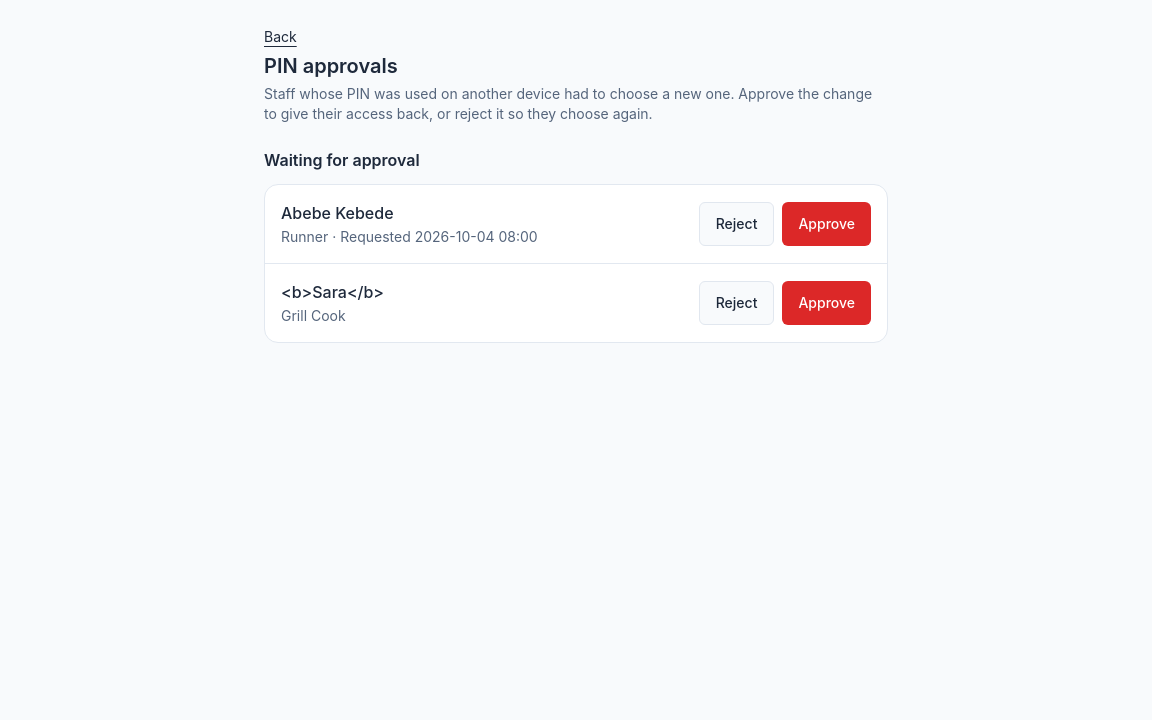
Test: PinApprovalsPage › approves only after confirmation, toasts and refreshes the list
Click the button with aria-label "Approve Abebe Kebede" at (827, 224), box [782, 202, 871, 246]
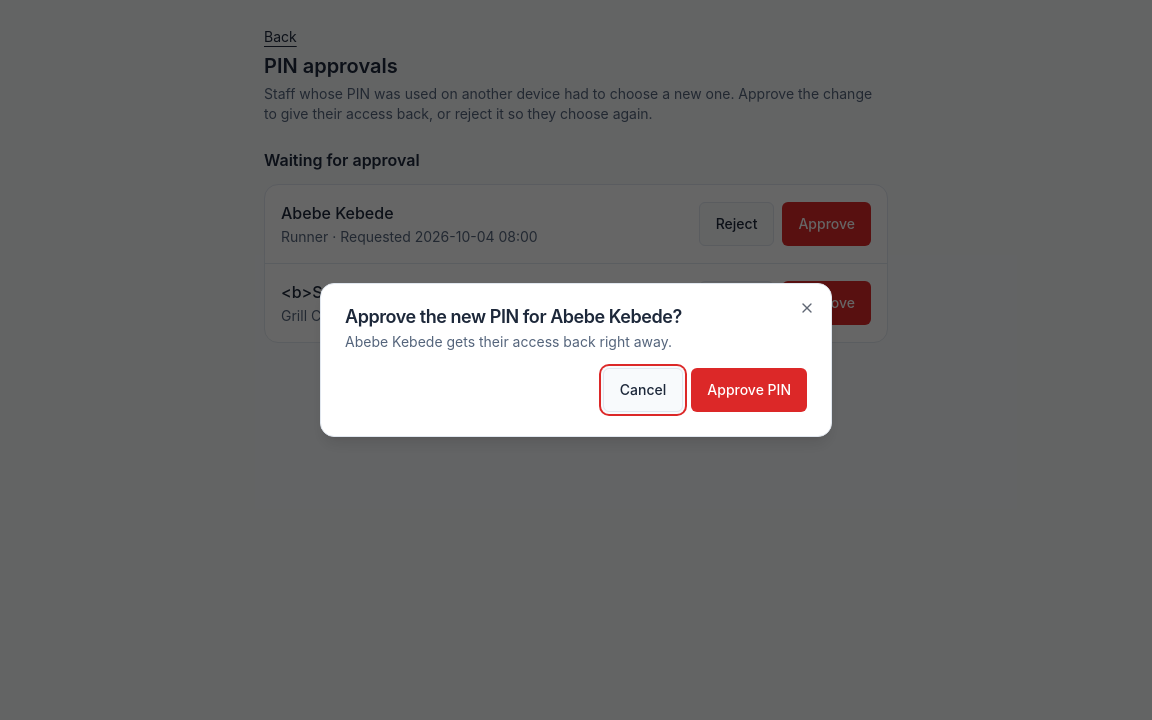
Expected: the dialog shows "Approve the new PIN for Abebe Kebede?", [345, 306, 682, 327]
Click the button "Cancel" at (643, 390), box [603, 368, 683, 412]
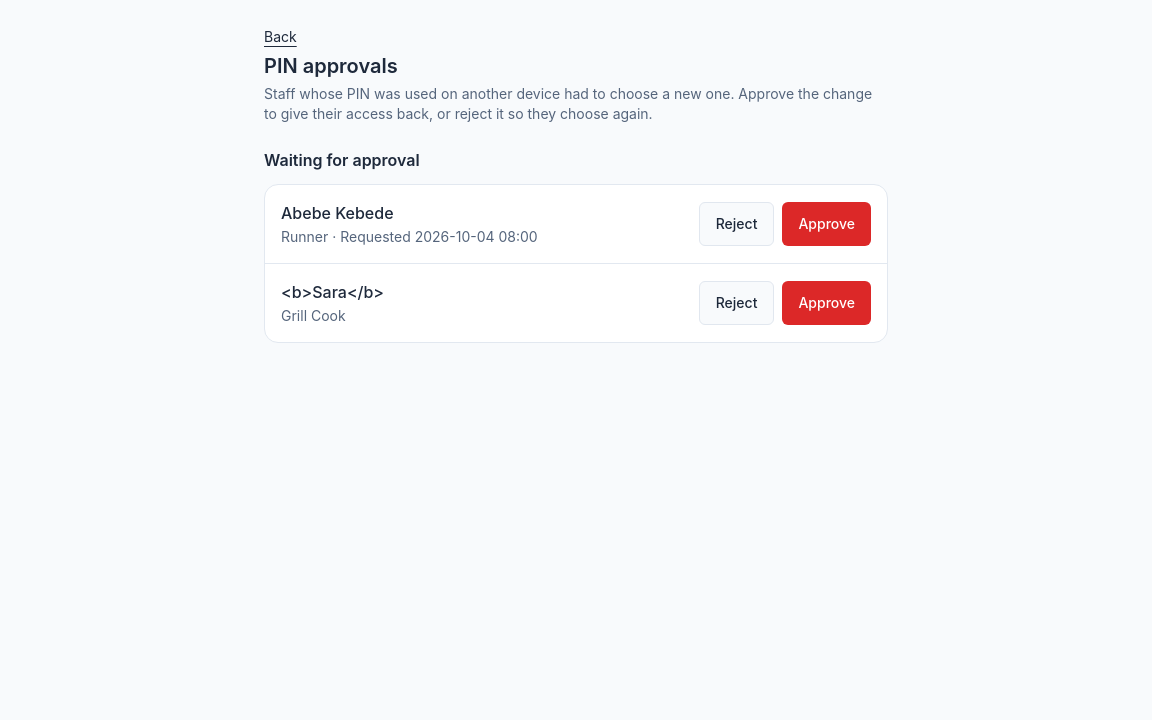
Click the button with aria-label "Approve Abebe Kebede" at (827, 224), box [782, 202, 871, 246]
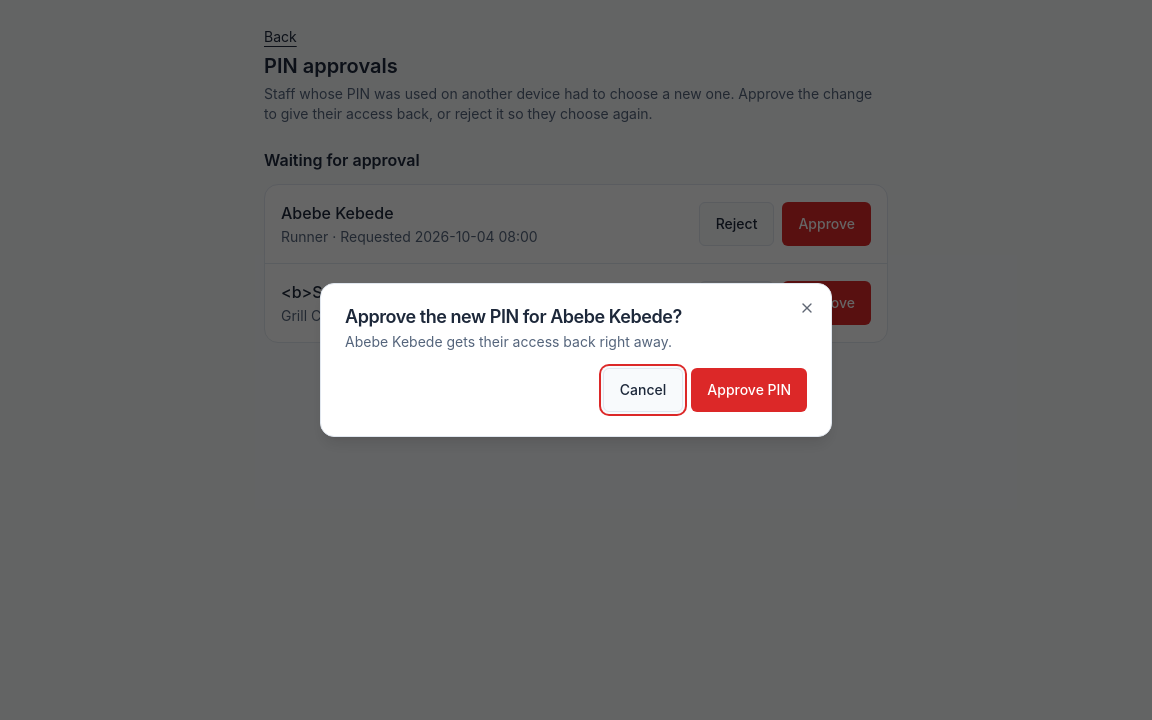
Click the button "Approve PIN" at (749, 390), box [691, 368, 807, 412]
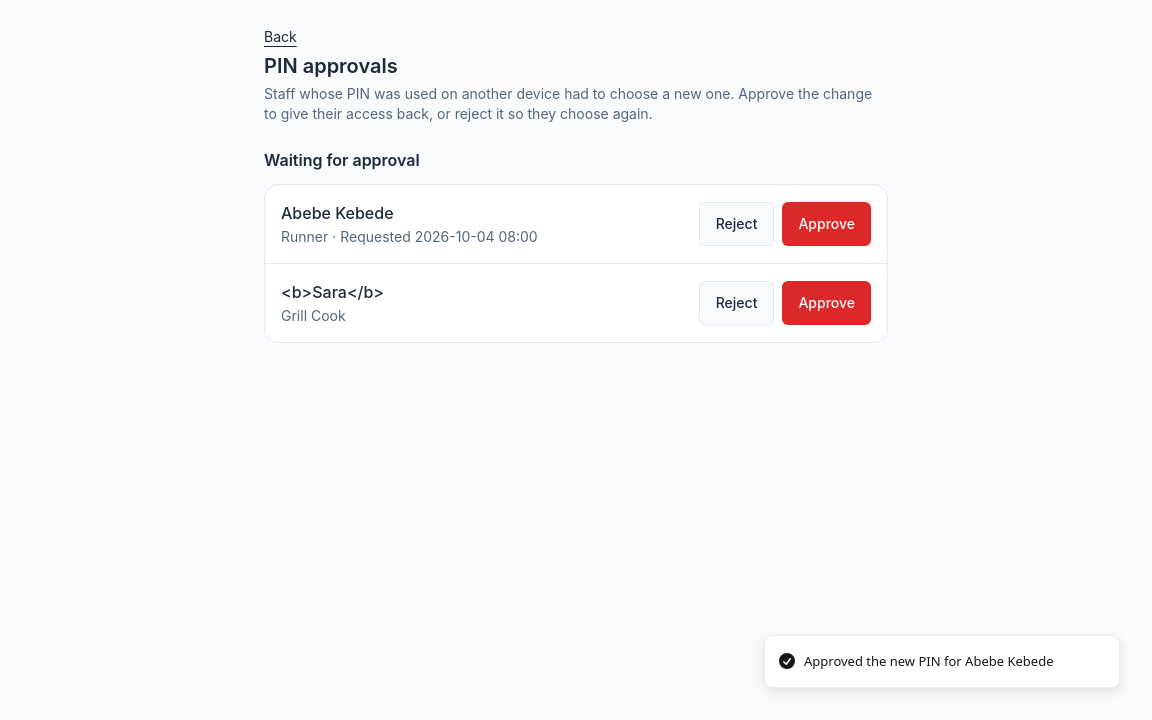
Expected: the text "Approved the new PIN for Abebe Kebede" is shown, [804, 652, 1054, 671]
